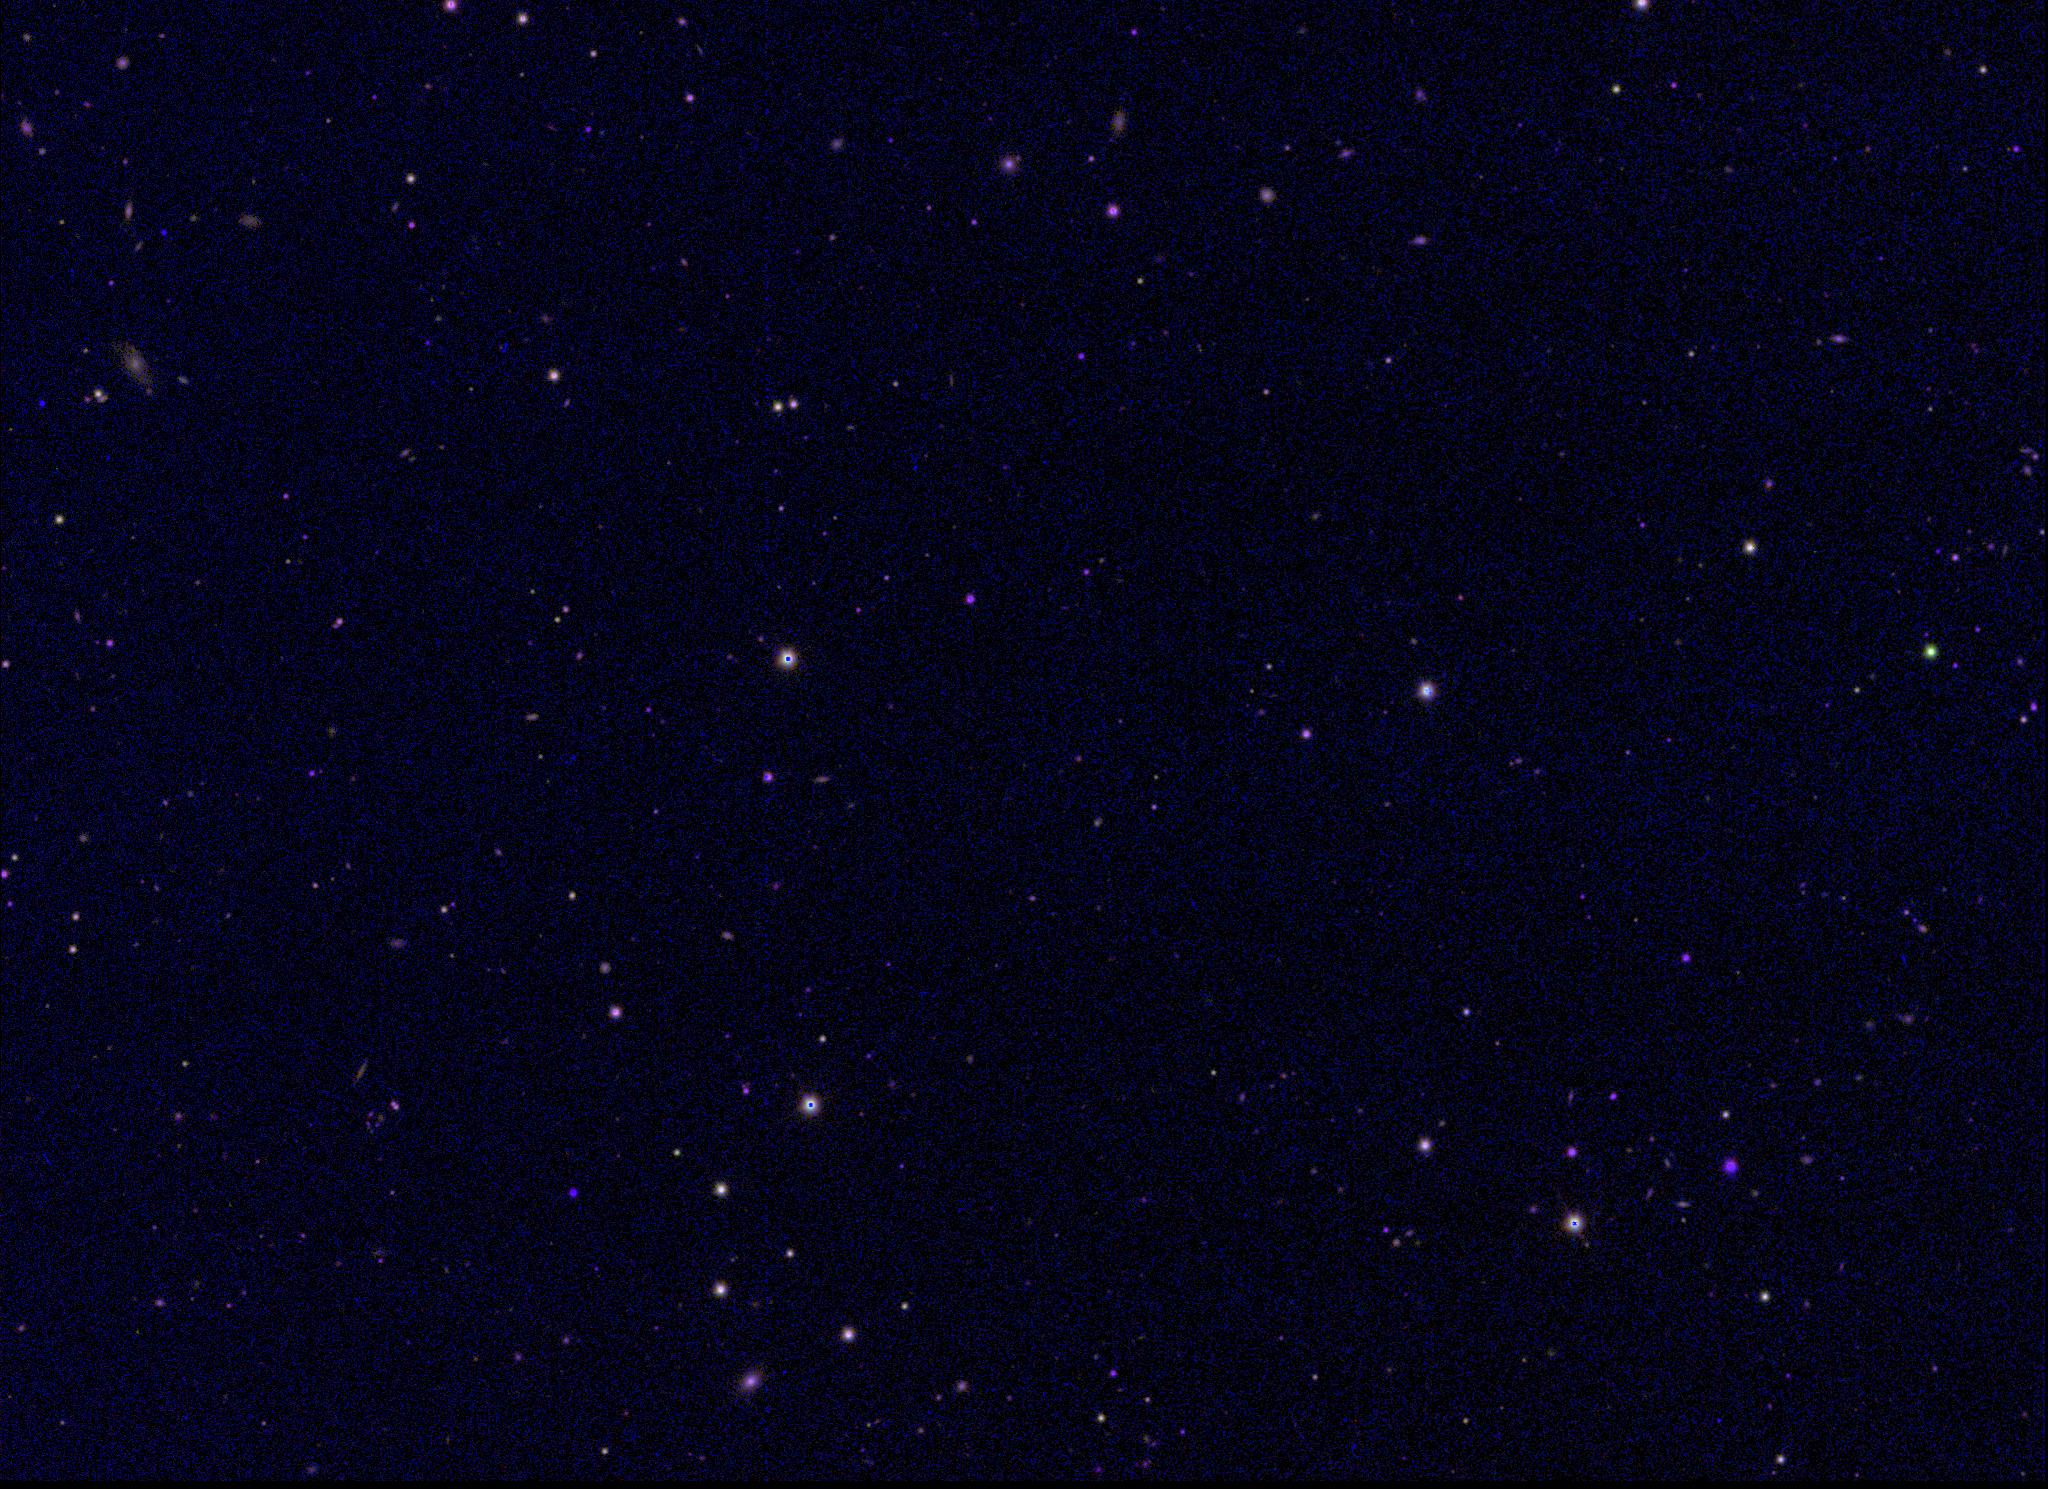L: (157, 226, 172, 240), (35, 398, 49, 410)
